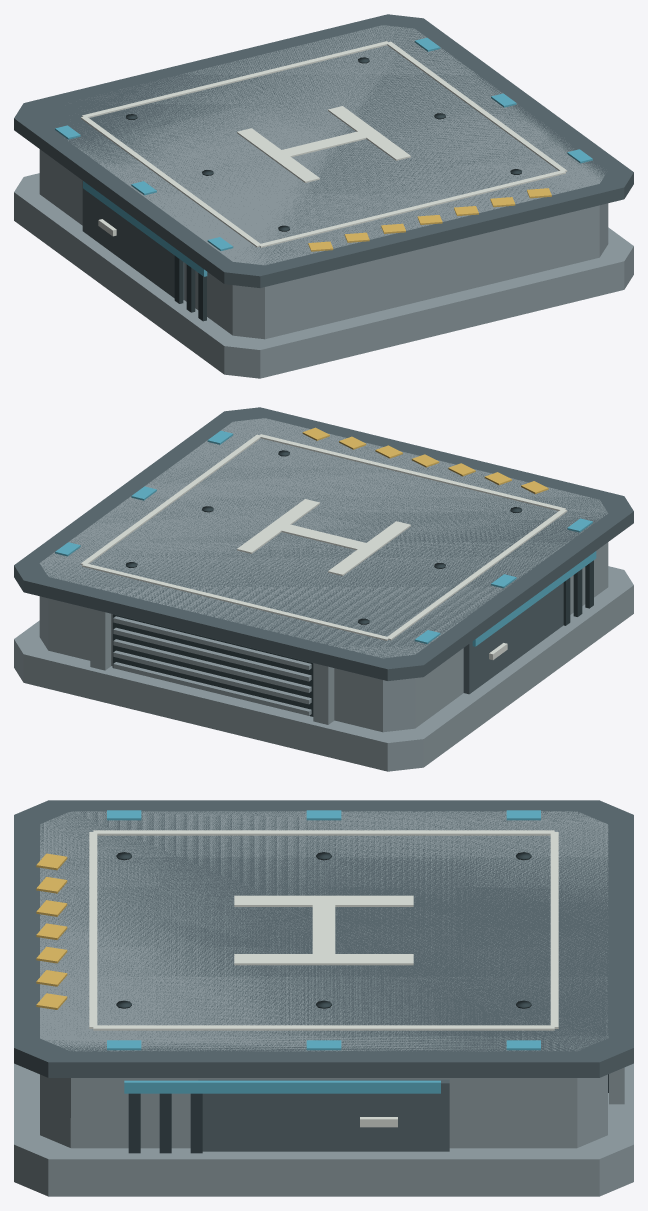
The model's file is MOD_HeliDeck_U1.fbx.
3 renders of one model, top to bottom at view 1: azimuth 30°, elevation 25°; view 2: azimuth 150°, elevation 25°; view 3: azimuth 270°, elevation 25°, orthographic. The views are drawn at different scales.
Visible parts, largest first — view 1: AviationServiceHull, FlightDeck, Foundation, SideServicePanel, LandingBoundary.001, LandingBoundary.003, LandingBoundary, LandingBoundary.002, HLeg, HLeg.001, RoleStripe, HCrossbar; view 2: AviationServiceHull, FlightDeck, Foundation, MaintenanceShutter, SideServicePanel, LandingBoundary.003, LandingBoundary.001, ShutterSlat, ShutterSlat.001, ShutterSlat.004, ShutterSlat.003, ShutterSlat.002 (+8 smaller); view 3: FlightDeck, AviationServiceHull, Foundation, SideServicePanel.001, RoleStripe.001, LandingBoundary.002, LandingBoundary, HLeg.001, HLeg, LandingBoundary.003, LandingBoundary.001, HCrossbar (+4 smaller).
Boxes of the visible parts, x1,y1,x2,y2 form: AviationServiceHull: (39, 25, 608, 339); FlightDeck: (14, 14, 633, 287); Foundation: (14, 173, 633, 378); SideServicePanel: (82, 181, 184, 299); LandingBoundary.001: (258, 170, 565, 247); LandingBoundary.003: (82, 41, 388, 117); LandingBoundary: (80, 116, 261, 247); LandingBoundary.002: (386, 41, 567, 171); HLeg: (237, 128, 319, 182); HLeg.001: (328, 106, 410, 160); RoleStripe: (83, 181, 207, 276); HCrossbar: (274, 129, 369, 157); AviationServiceHull: (39, 418, 608, 732); FlightDeck: (14, 407, 633, 680); Foundation: (14, 566, 633, 771); MaintenanceShutter: (112, 614, 313, 716); SideServicePanel: (463, 582, 563, 694); LandingBoundary.003: (82, 563, 389, 640); LandingBoundary.001: (259, 434, 565, 510); ShutterSlat: (113, 662, 311, 715); ShutterSlat.001: (113, 650, 311, 704); ShutterSlat.004: (113, 616, 311, 669); ShutterSlat.003: (113, 627, 311, 681); ShutterSlat.002: (113, 639, 311, 692); FlightDeck: (14, 800, 633, 1077); AviationServiceHull: (40, 811, 608, 1148); Foundation: (14, 1063, 633, 1196); SideServicePanel.001: (198, 1079, 449, 1151); RoleStripe.001: (124, 1080, 440, 1093); LandingBoundary.002: (93, 1025, 554, 1030); LandingBoundary: (93, 830, 554, 835); HLeg.001: (234, 954, 413, 965); HLeg: (234, 895, 413, 906); LandingBoundary.003: (550, 832, 558, 1028); LandingBoundary.001: (89, 832, 97, 1028); HCrossbar: (312, 900, 335, 958).
Size of the model in its own units: 180 by 43.7 by 180.
